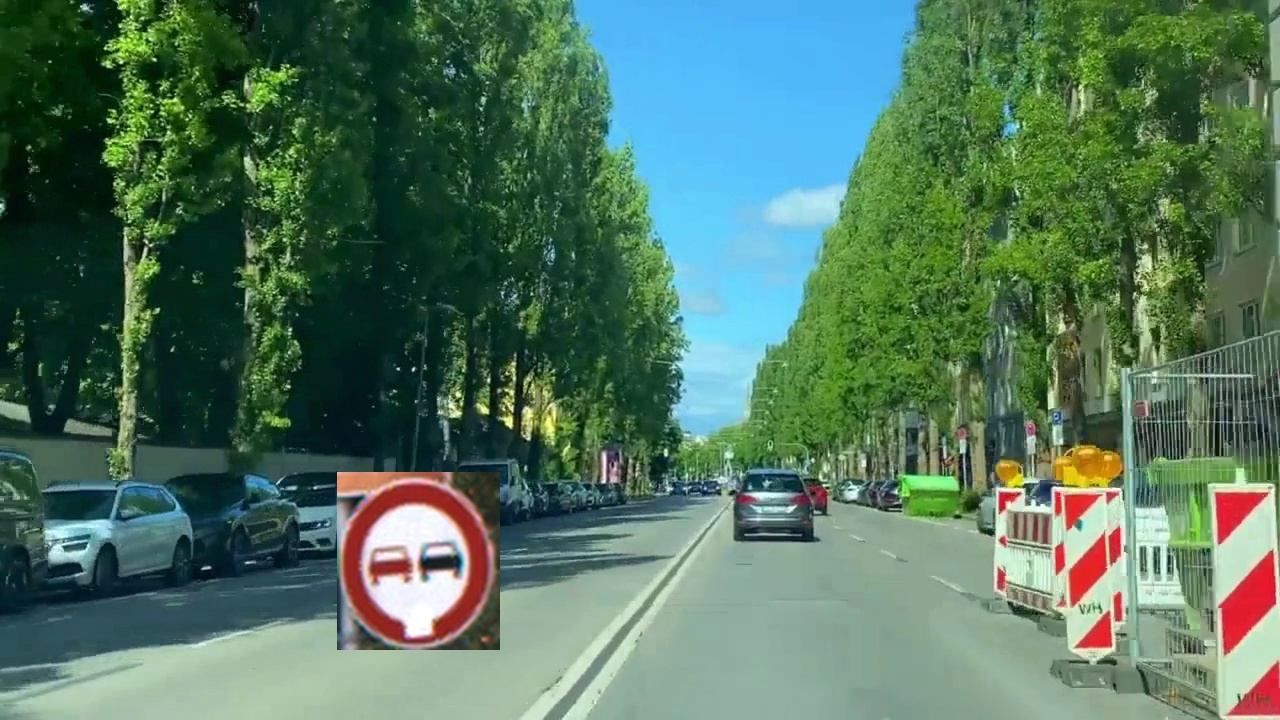No passing: (337, 472, 500, 650)
